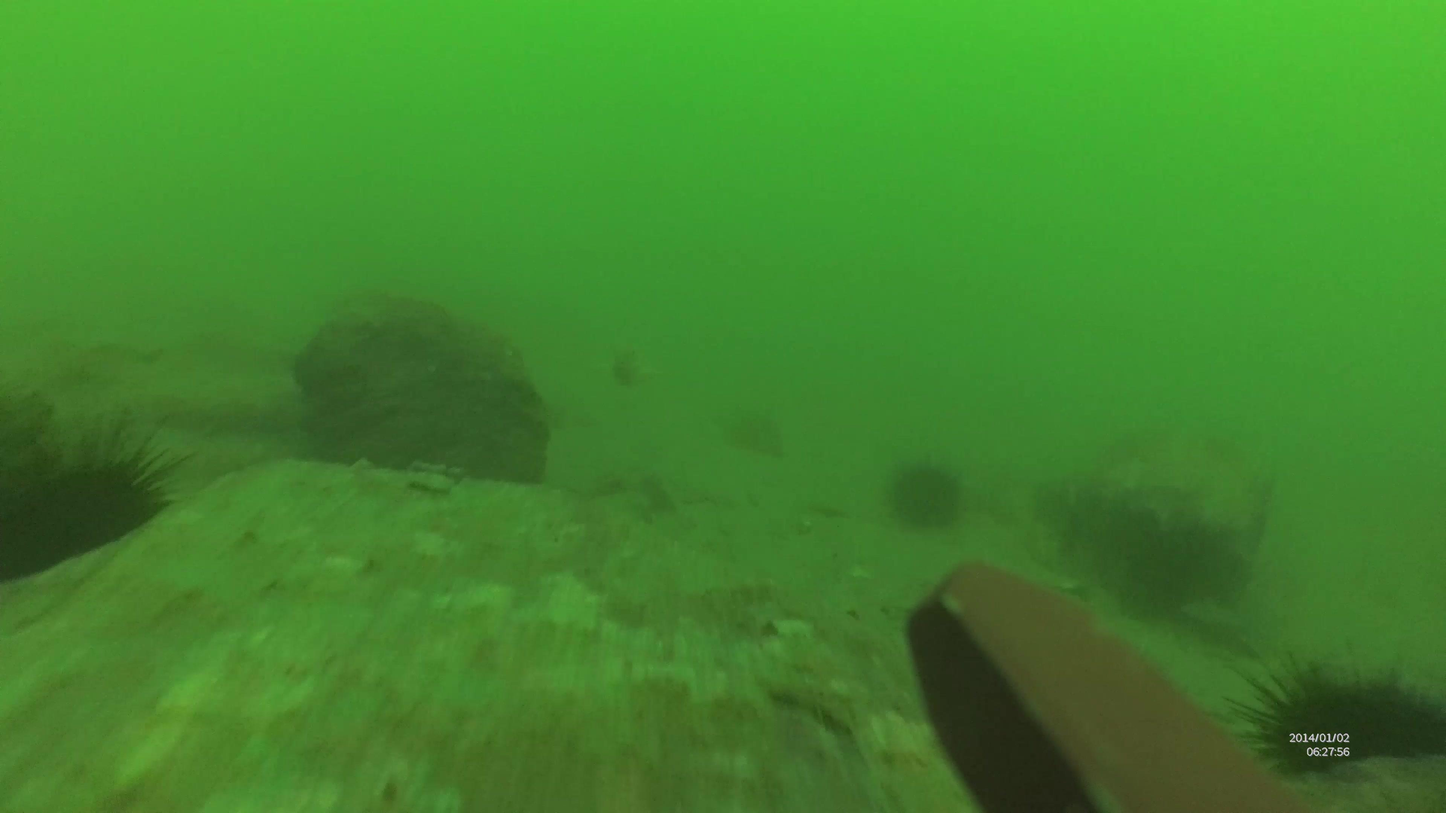starfish: (1230, 641, 1446, 794), (0, 417, 192, 587), (889, 459, 964, 537)
